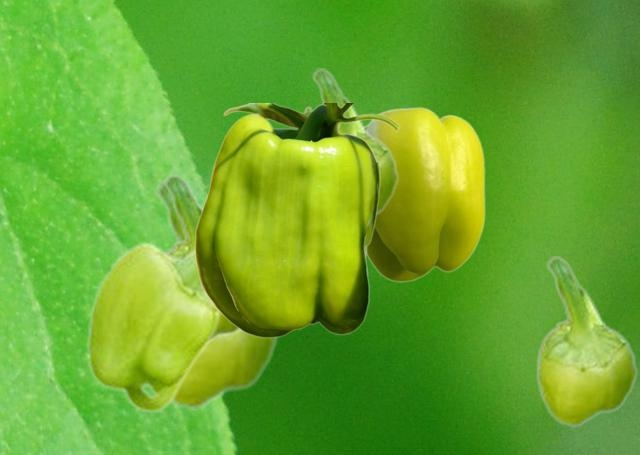bell_pepper: (194, 103, 398, 337), (149, 179, 278, 409), (85, 237, 224, 413), (365, 106, 484, 281), (535, 256, 637, 426), (159, 174, 242, 345), (307, 68, 398, 219)
